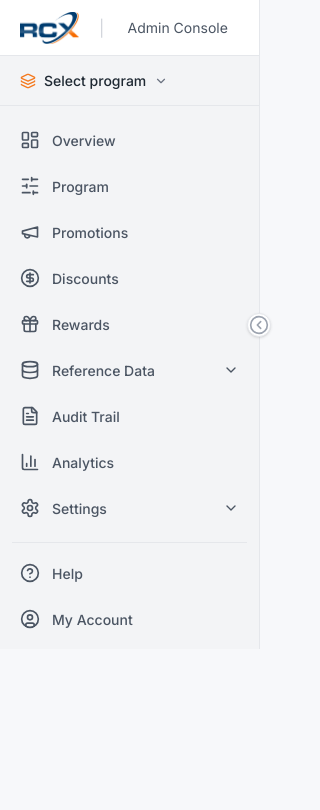
it: Sidebar › expands children when parent group is clicked
Step 1. Click the button with test id "nav-sidebar-reference-data" → (130, 370), box top-left (8, 348), bottom-right (251, 392)
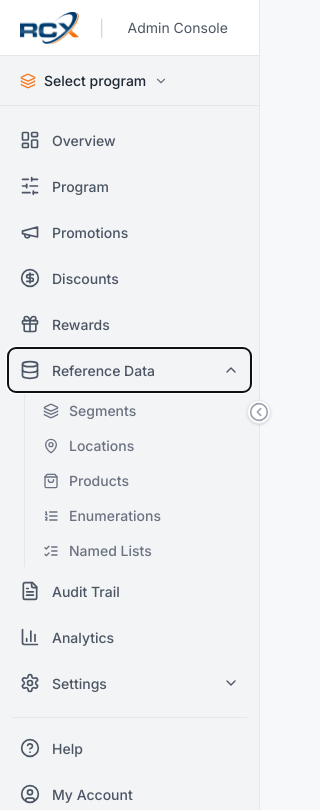
Check: the link with test id "nav-sidebar-segments" is shown, box top-left (43, 402), bottom-right (136, 419)
Check: the link with test id "nav-sidebar-locations" is shown, box top-left (43, 437), bottom-right (134, 454)
Check: the link with test id "nav-sidebar-products" is shown, box top-left (43, 472), bottom-right (129, 489)
